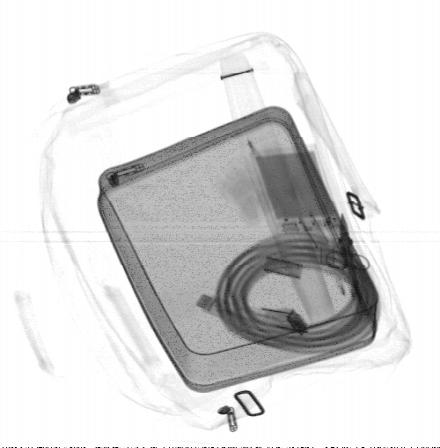Powerbank: (246, 144, 349, 239)
Scissors: (325, 214, 372, 272)
